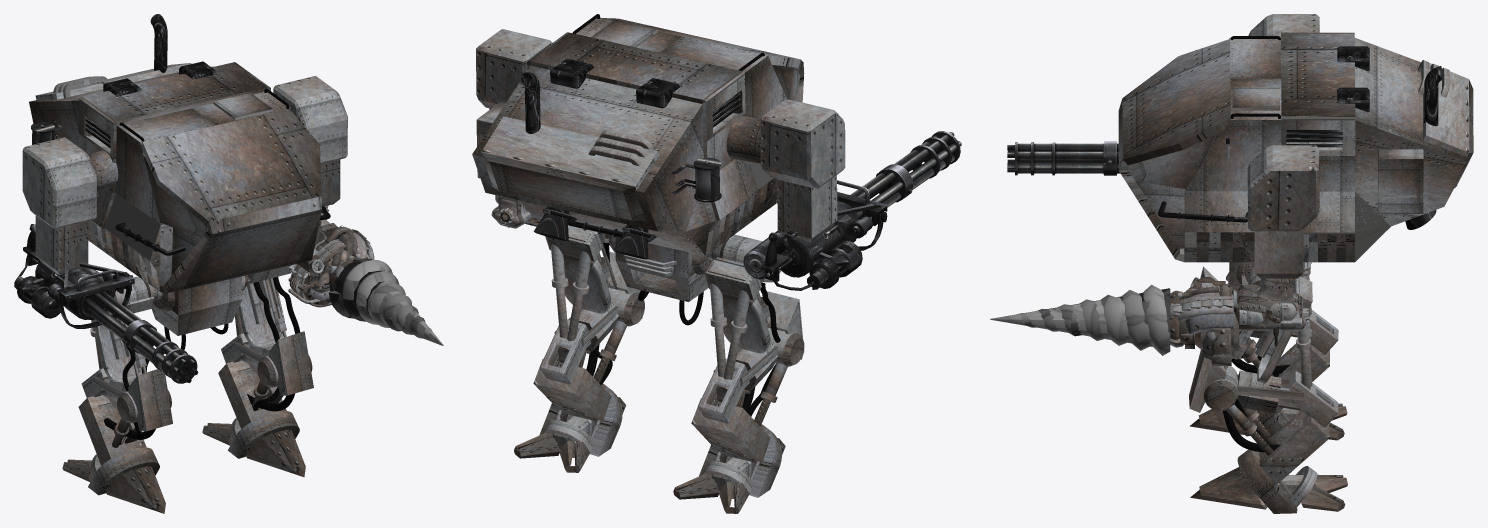
File: mech.glb
3 views of the same model, side by side, from view 1: azimuth 30°, elevation 25°; view 2: azimuth 150°, elevation 25°; view 3: azimuth 270°, elevation 25° (orthographic). The views are drawn at different scales.
Parts seen in each view (by area): view 1: Cube.001, Cube, cube.027, gatling, hand.L, lower_arm.L, gatling.001, cube.010, cube.017, cube.015, cube.013, knee_cap (+21 smaller); view 2: Cube, gatling, cube.027, cube.010, gatling.001, cube.017, cube.015, cube.013, cube.005, cube.009, cube.012, cube.004 (+30 smaller); view 3: Cube, Cube.001, lower_arm.L, hand.L, cube.010, gatling.001, Cube.008, cube.005, Cube.007, cube.026, cone, cylinder.005 (+19 smaller).
Boxes of the visible parts, x1,y1,x2,y2 form: Cube.001: [141, 108, 321, 293]; Cube: [29, 62, 321, 291]; cube.027: [22, 137, 97, 228]; gatling: [14, 224, 134, 328]; hand.L: [328, 258, 443, 345]; lower_arm.L: [288, 205, 374, 307]; gatling.001: [84, 291, 198, 383]; cube.010: [273, 76, 347, 163]; cube.017: [151, 276, 242, 349]; cube.015: [35, 215, 88, 275]; cube.013: [78, 395, 146, 465]; knee_cap: [268, 331, 313, 395]; Cube: [472, 18, 786, 255]; gatling: [743, 180, 887, 290]; cube.027: [760, 99, 845, 188]; cube.010: [476, 29, 552, 108]; gatling.001: [850, 131, 961, 219]; cube.017: [615, 236, 708, 325]; cube.015: [777, 175, 837, 242]; cube.013: [691, 398, 770, 463]; cube.005: [533, 358, 611, 421]; cube.009: [722, 293, 770, 353]; cube.012: [698, 359, 747, 423]; cube.004: [540, 320, 588, 384]; Cube: [1184, 32, 1473, 262]; Cube.001: [1118, 39, 1230, 262]; lower_arm.L: [1170, 277, 1308, 365]; hand.L: [990, 284, 1170, 355]; cube.010: [1247, 145, 1319, 231]; gatling.001: [1007, 141, 1120, 175]; Cube.008: [1377, 149, 1423, 213]; cube.005: [1259, 411, 1329, 484]; Cube.007: [1128, 131, 1223, 189]; cube.026: [1254, 229, 1303, 278]; cone: [1190, 467, 1267, 509]; cylinder.005: [1237, 449, 1297, 513].
Bounding box in the file's own units: 1.32 × 1.54 × 1.6.
Materials: 4 (3 with a texture image).
